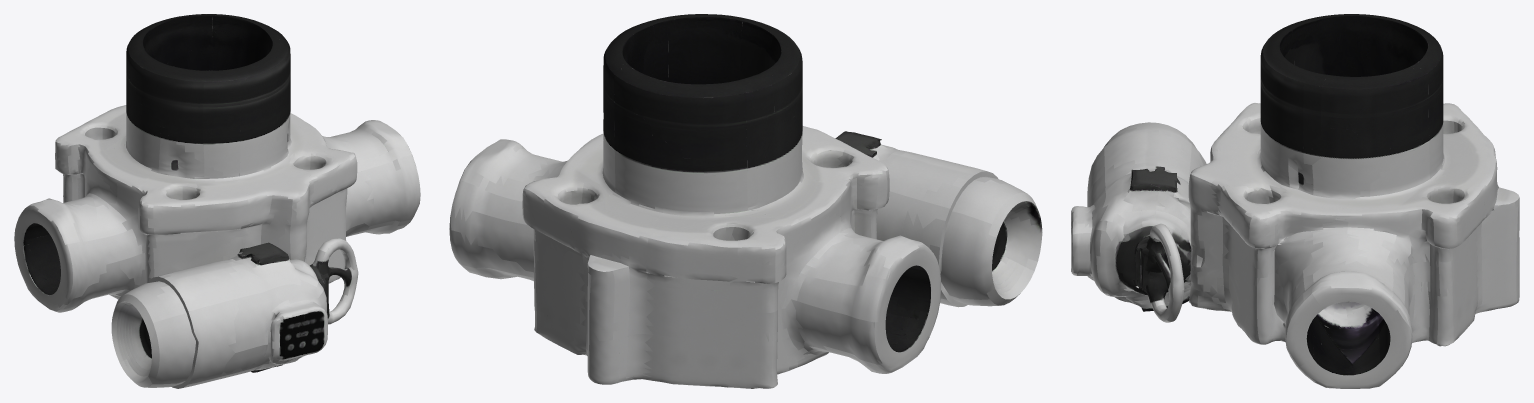
Rendered from egr-valve.glb.
3 renders of one model, left to right at view 1: azimuth 30°, elevation 25°; view 2: azimuth 150°, elevation 25°; view 3: azimuth 270°, elevation 25°, orthographic. The views are drawn at different scales.
Bounding box in the file's own units: 1.9 × 1.29 × 1.89.
Materials: 1 (1 with a texture image).
